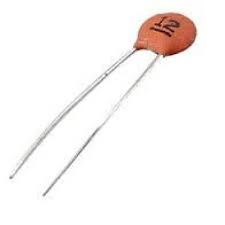ceramic capacitor: (84, 3, 210, 87)
